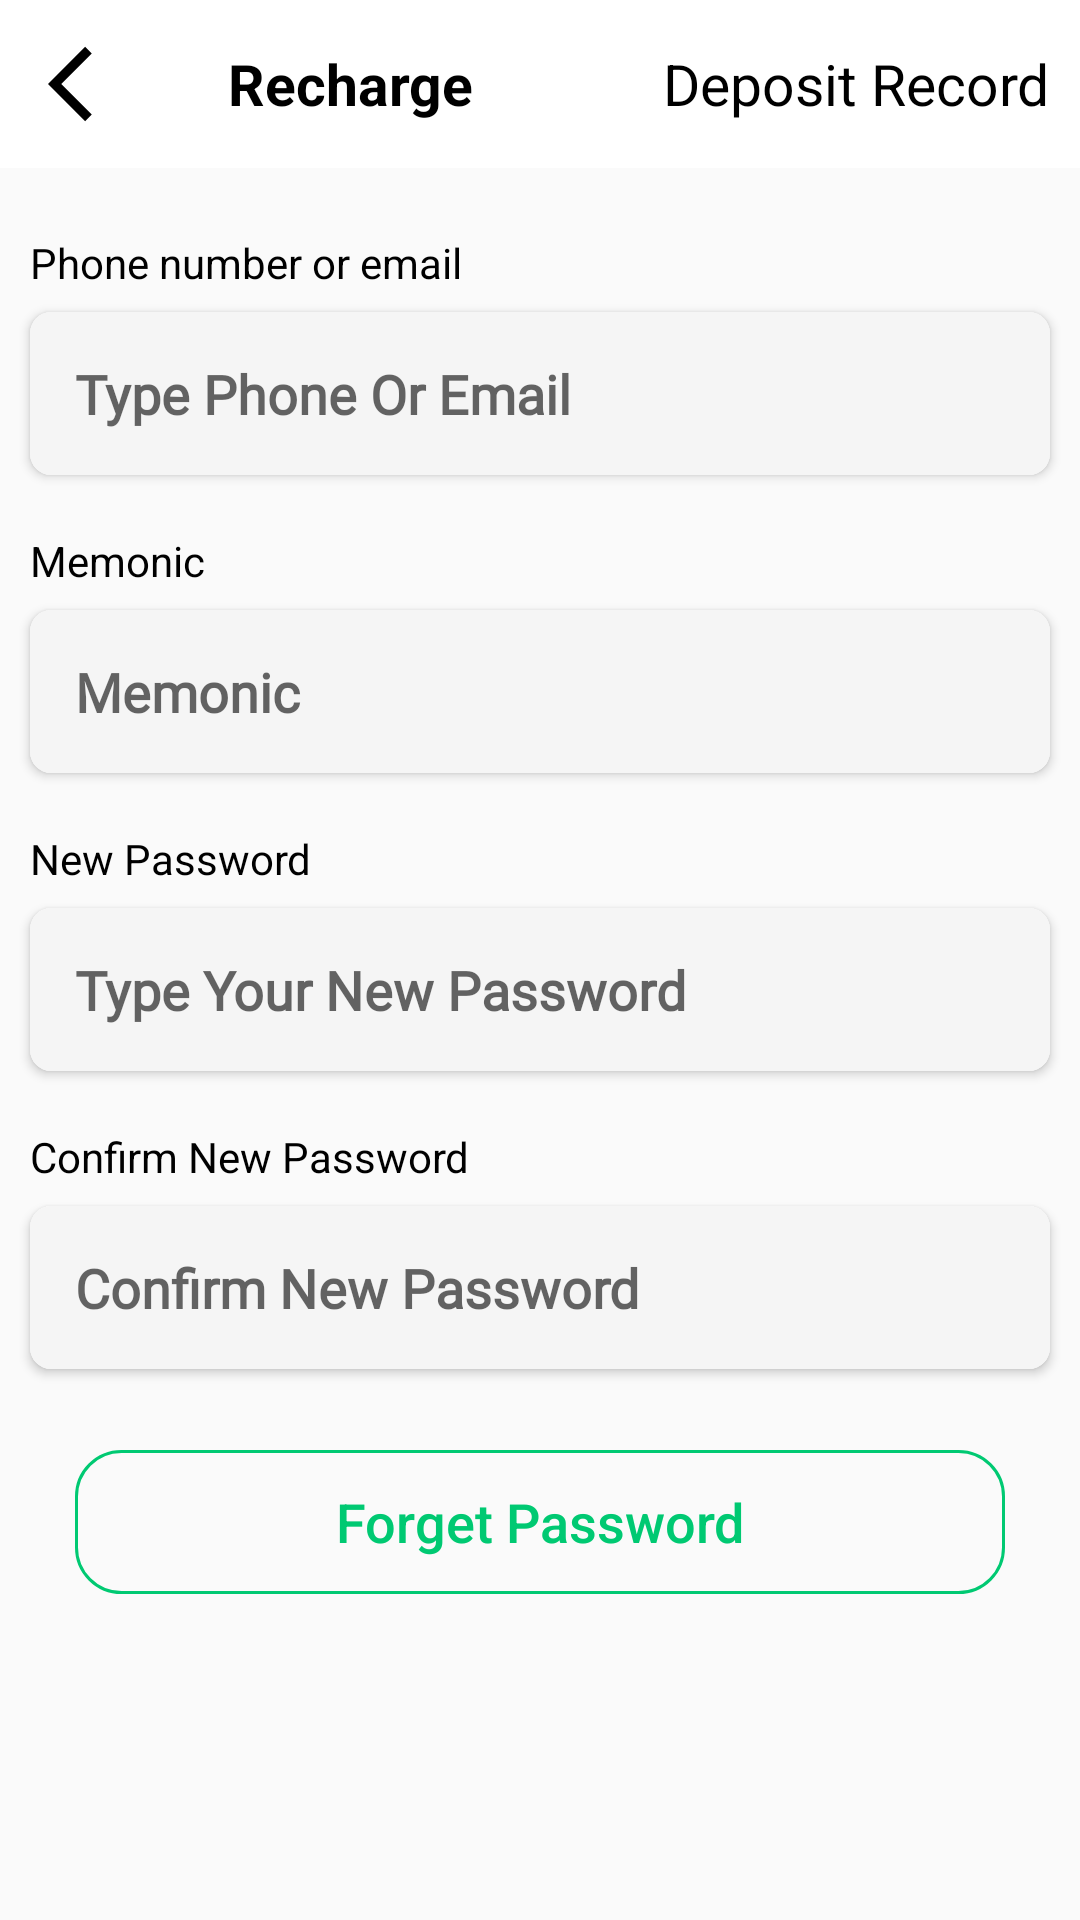

Screen size 1080x1920. Icon name, then its center in pixels as point (x, y):
back: point (70, 84)
